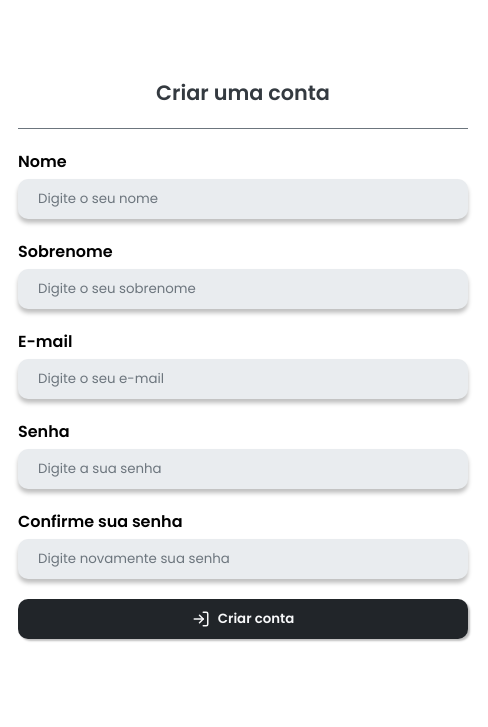
Test: Sign Up › should show error when filling an invalid email
Type "lorem@lorem" into the field with placeholder "Digite o seu e-mail" at coordinates (243, 379), box [18,359,468,399]
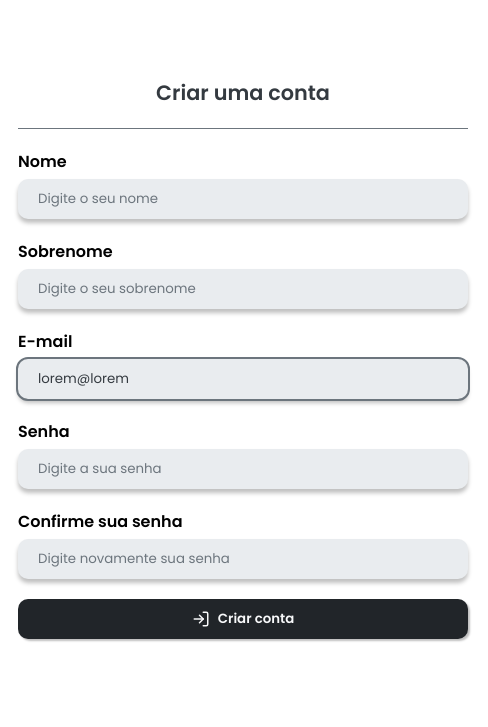
Click the button "Criar conta" at coordinates (243, 619), box [18,599,468,639]
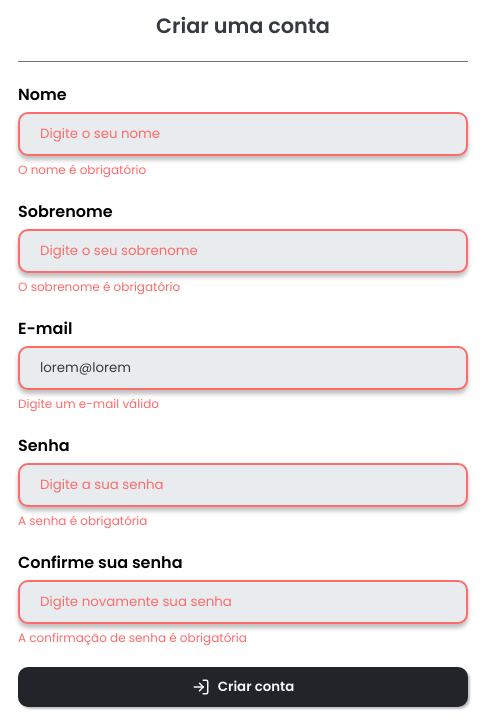
Expected: the text "Digite um e-mail válido" is shown, [18,394,159,412]
